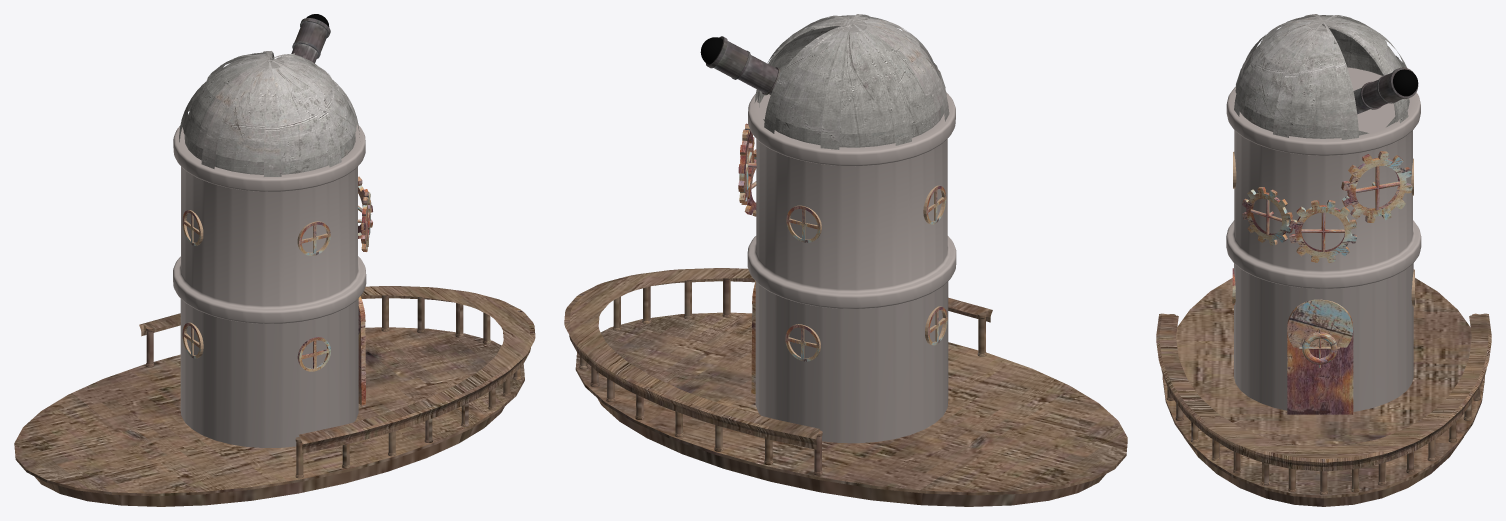
Rendered from Steampunk Tower.fbx.
The picture shows the model from 3 angles, left to right: view 1: azimuth 30°, elevation 25°; view 2: azimuth 150°, elevation 25°; view 3: azimuth 270°, elevation 25°; orthographic projection. The views are drawn at different scales.
Parts seen in each view (by area): view 1: Wood, Main Tube, Top Sphere, Gears, Lens Shaft, Door; view 2: Wood, Main Tube, Top Sphere, Gears, Lens Shaft; view 3: Main Tube, Wood, Top Sphere, Door, Gears, Lens Shaft, Door Gear, Lens.
Boxes of the visible parts, x1,y1,x2,y2 form: Wood: (14, 286, 535, 506); Main Tube: (173, 124, 366, 447); Top Sphere: (179, 51, 359, 176); Gears: (182, 176, 372, 371); Lens Shaft: (291, 18, 330, 63); Door: (358, 296, 365, 405); Wood: (564, 268, 1127, 506); Main Tube: (747, 92, 956, 443); Top Sphere: (754, 14, 949, 149); Gears: (738, 123, 947, 361); Lens Shaft: (706, 36, 781, 95); Main Tube: (1226, 67, 1421, 411); Wood: (1156, 278, 1491, 506); Top Sphere: (1234, 14, 1409, 139); Door: (1287, 299, 1353, 414); Gears: (1232, 151, 1414, 306); Lens Shaft: (1353, 67, 1418, 114); Door Gear: (1299, 328, 1339, 367); Lens: (1393, 69, 1418, 96).
Size of the model in its own units: 11.15 by 7.94 by 6.48.
